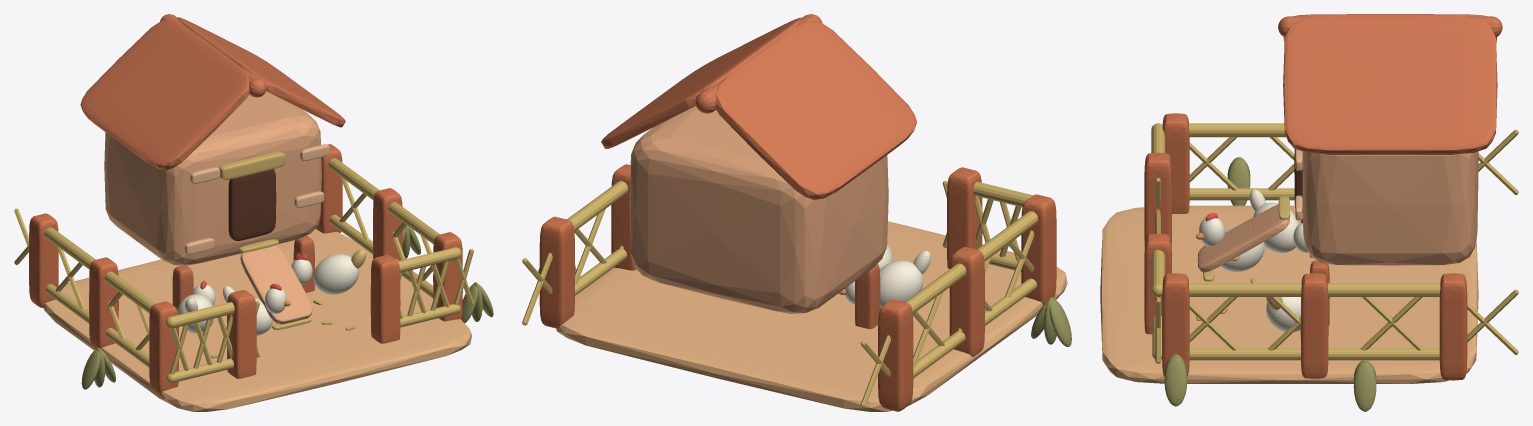
File: coop.glb
3 views of the same model, side by side, from view 1: azimuth 30°, elevation 25°; view 2: azimuth 150°, elevation 25°; view 3: azimuth 270°, elevation 25° (orthographic). The views are drawn at different scales.
Parts seen in each view (by area): view 1: Pad, Hut, Roof_L, Roof_R, Door, Ramp, Post_7, Post_2, Post_6, Post_0, Post_1, Post_4 (+18 smaller); view 2: Hut, Pad, Roof_L, Roof_R, Post_2, Post_5, Post_1, Post_0, Post_6, Rail_0, Post_4, Hen1_Body (+7 smaller); view 3: Pad, Roof_R, Hut, Rail_1, Post_5, Post_4, RailB_1, Ramp, Post_3, Post_0, Post_6, Rail_0 (+17 smaller).
Part boxes in pixels (<box>): Pad: <box>43,228,471,411</box>; Hut: <box>104,91,321,265</box>; Roof_L: <box>80,19,249,169</box>; Roof_R: <box>177,17,345,127</box>; Door: <box>228,169,276,240</box>; Ramp: <box>240,245,312,324</box>; Post_7: <box>370,254,400,343</box>; Post_2: <box>29,213,58,307</box>; Post_6: <box>227,290,256,378</box>; Post_0: <box>149,301,178,394</box>; Post_1: <box>89,257,118,348</box>; Post_4: <box>373,188,402,260</box>; Hut: <box>629,106,888,313</box>; Pad: <box>556,221,1067,411</box>; Roof_L: <box>715,21,916,199</box>; Roof_R: <box>601,17,801,148</box>; Post_2: <box>878,299,913,411</box>; Post_5: <box>539,216,574,328</box>; Post_1: <box>949,247,984,356</box>; Post_0: <box>1021,194,1056,304</box>; Post_6: <box>947,167,982,268</box>; Rail_0: <box>905,211,1038,313</box>; Post_4: <box>611,164,636,270</box>; Hen1_Body: <box>880,260,923,307</box>; Pad: <box>1100,205,1478,383</box>; Roof_R: <box>1283,16,1497,154</box>; Hut: <box>1302,151,1478,265</box>; Rail_1: <box>1188,283,1440,296</box>; Post_5: <box>1439,273,1467,380</box>; Post_4: <box>1300,273,1328,378</box>; RailB_1: <box>1189,348,1439,360</box>; Ramp: <box>1197,204,1290,272</box>; Post_3: <box>1162,273,1189,376</box>; Post_0: <box>1162,113,1189,213</box>; Post_6: <box>1144,152,1171,245</box>; Rail_0: <box>1188,123,1285,137</box>.
Size of the model in its own units: 2 by 1.22 by 1.61.
